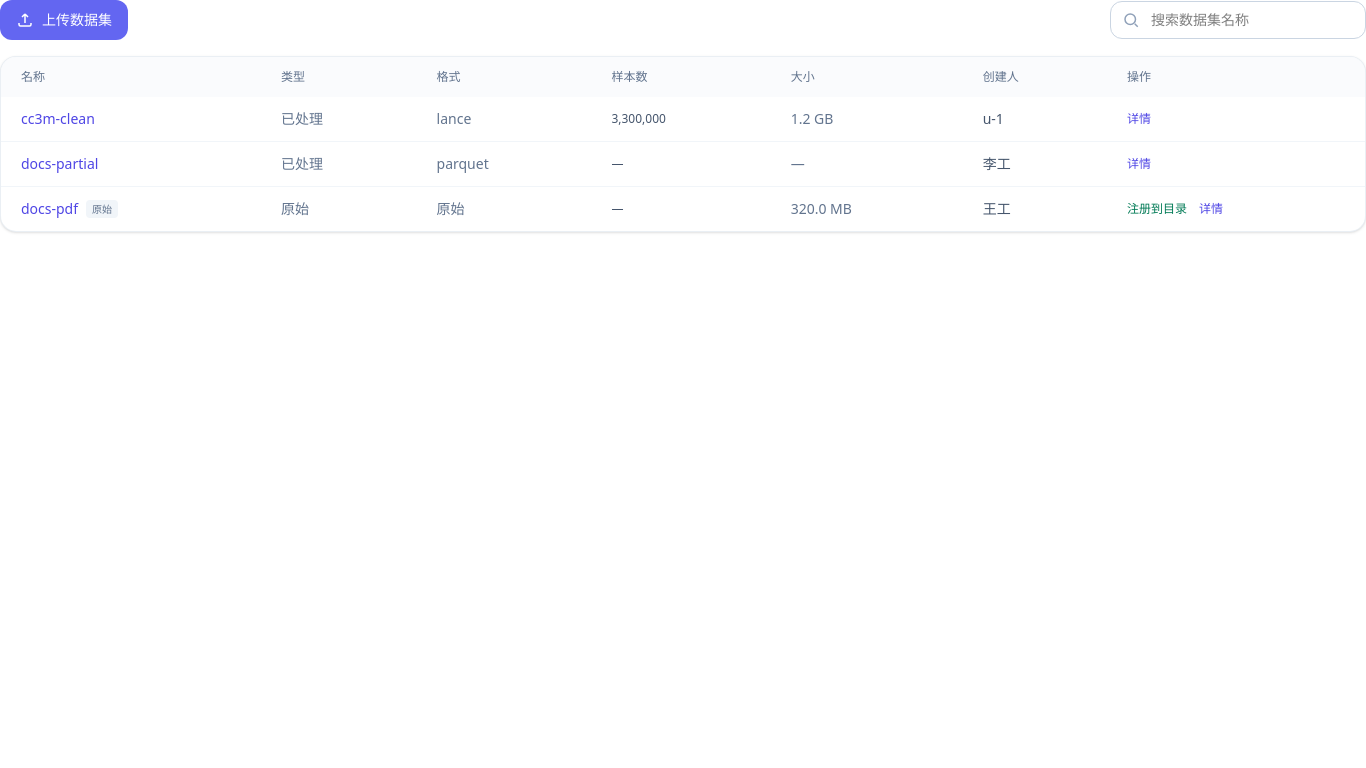
Scenario: 原始数据详情抽屉显状态字段
expect the text "docs-pdf" is shown: met, box x1=21 y1=199 x2=78 y2=218
Click the button "详情" in the row of "docs-pdf": (1211,209) x1=1199 y1=201 x2=1223 y2=217
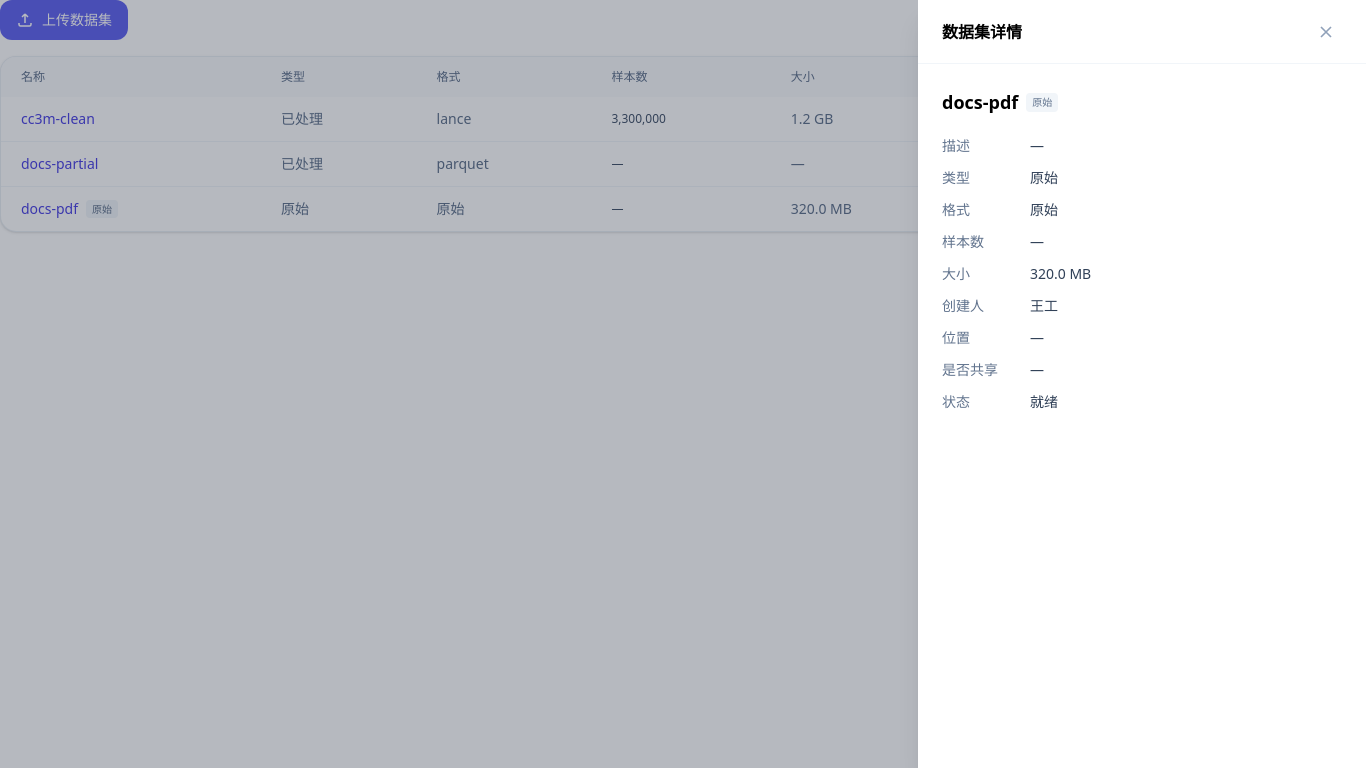
expect the text "状态" is shown: met, box x1=942 y1=392 x2=970 y2=411
expect the text "就绪" is shown: met, box x1=1030 y1=392 x2=1058 y2=411
